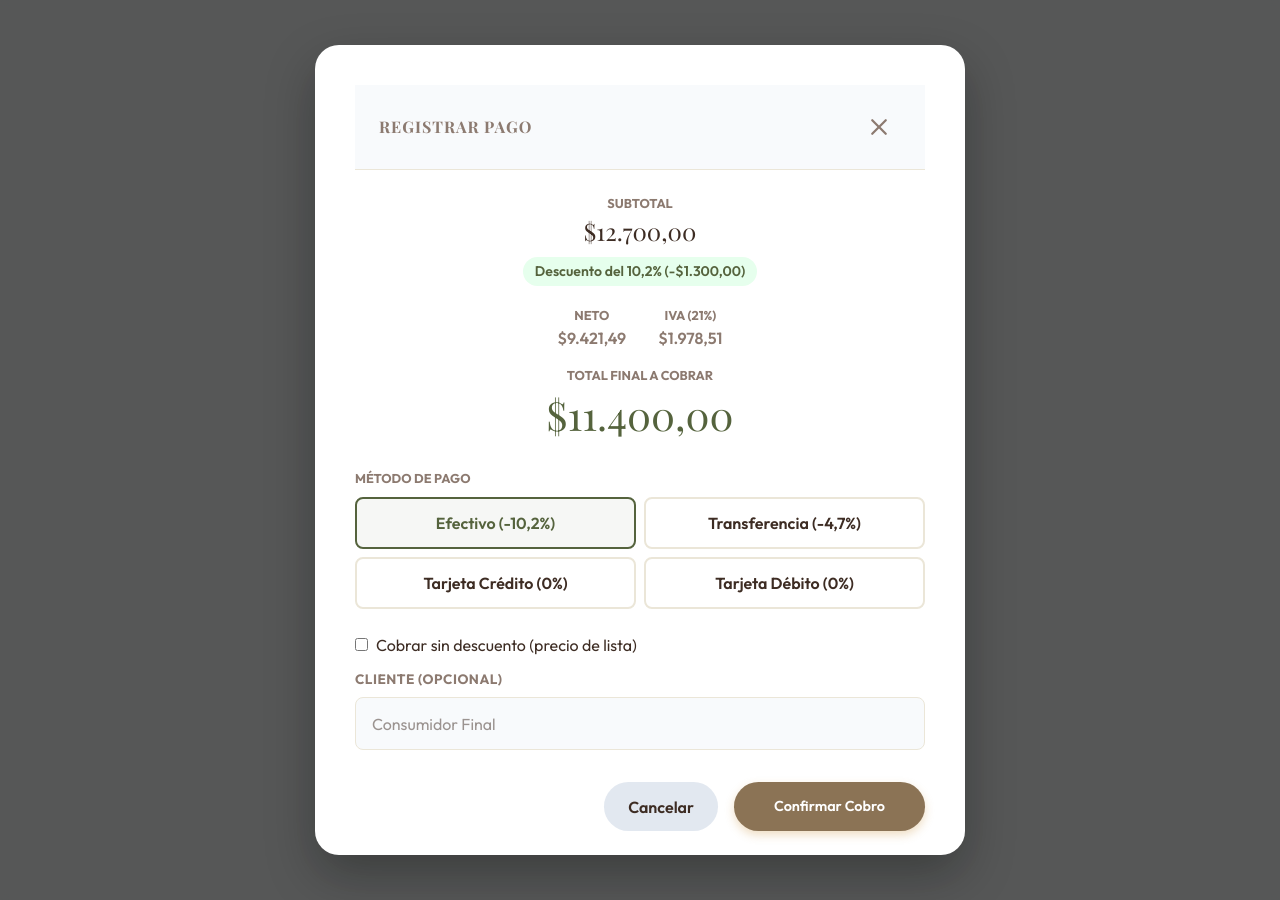
PaymentModal › hides the toggle for card payments
Click the button "Tarjeta Débito (0%)": (784, 583) [644,557,925,609]
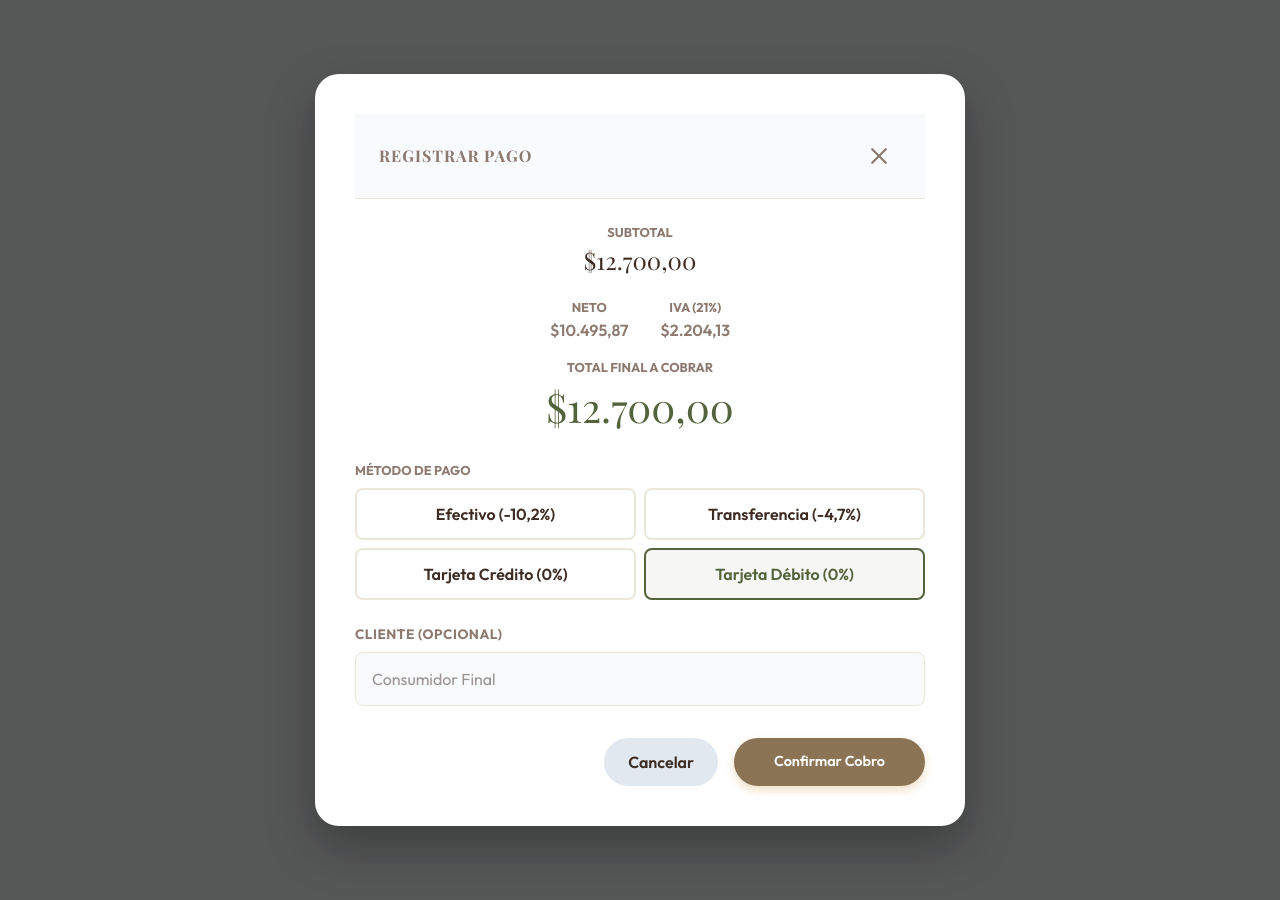
Now the label labelled "Cobrar sin descuento" is gone
